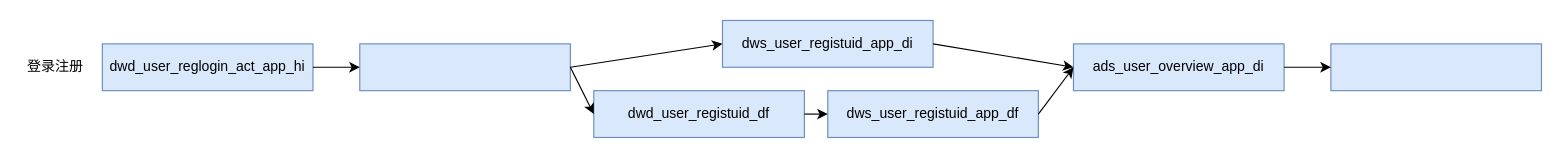
This 1562x158 diagram has some shape labels left out. Here are the shapes that lost their labels. From the top down, the box of each, then its label:
(359, 43, 570, 91): dwd_user_reglogin_act_di
(1330, 43, 1541, 91): user_overview_app_all_di
